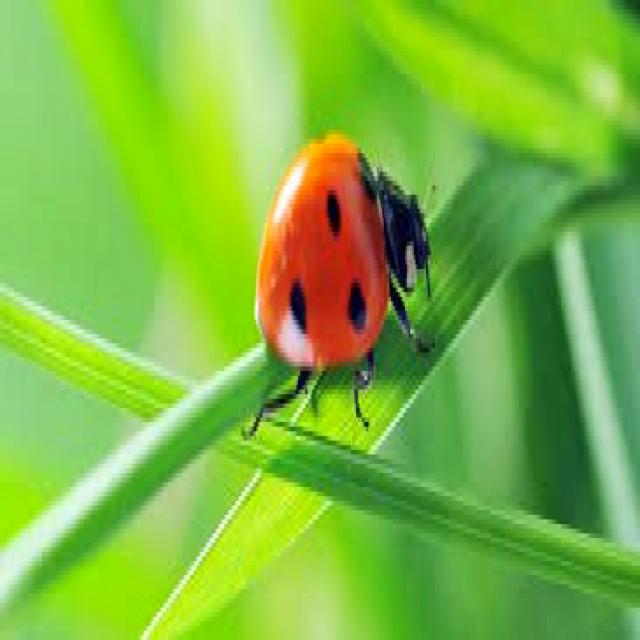ladybug: (249, 134, 428, 431)
